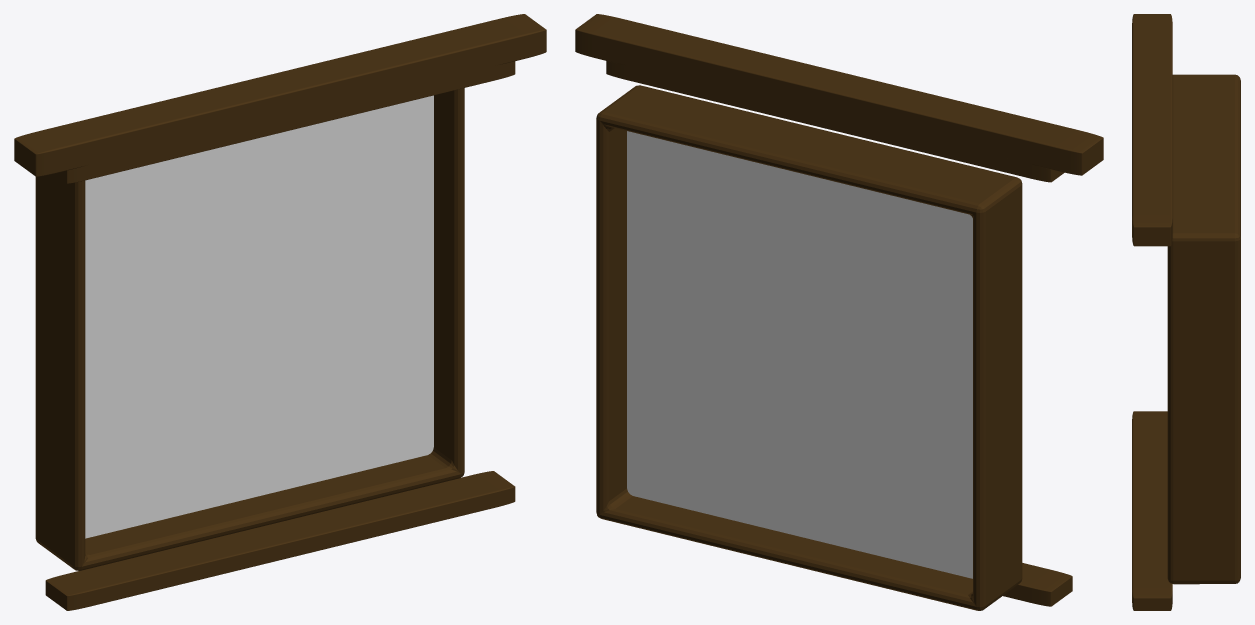
File: Window01.fbx
3 views of the same model, side by side, from view 1: azimuth 30°, elevation 25°; view 2: azimuth 150°, elevation 25°; view 3: azimuth 270°, elevation 25° (orthographic). The views are drawn at different scales.
Visible parts, largest first — view 1: WindowGlow, WindowFrame04, WindowFrame03, WindowFrame01, WindowFrame02; view 2: WindowGlow, WindowFrame04, WindowFrame03, WindowFrame02, WindowFrame01; view 3: WindowFrame04, WindowFrame03, WindowFrame01.
Boxes of the visible parts, x1,y1,x2,y2 form: WindowGlow: (85, 95, 433, 538); WindowFrame04: (35, 88, 464, 570); WindowFrame03: (14, 14, 546, 176); WindowFrame01: (45, 471, 515, 610); WindowFrame02: (54, 61, 515, 183); WindowGlow: (627, 131, 972, 578); WindowFrame04: (596, 85, 1022, 610); WindowFrame03: (575, 14, 1103, 175); WindowFrame02: (606, 61, 1064, 182); WindowFrame01: (1003, 563, 1072, 606); WindowFrame04: (1167, 74, 1240, 584); WindowFrame03: (1132, 14, 1172, 246); WindowFrame01: (1132, 411, 1172, 610).
Bounding box in the file's own units: 73.15 × 63.78 × 15.77.
